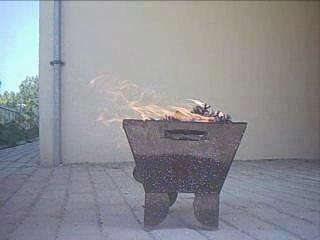fire: (89, 74, 218, 123)
